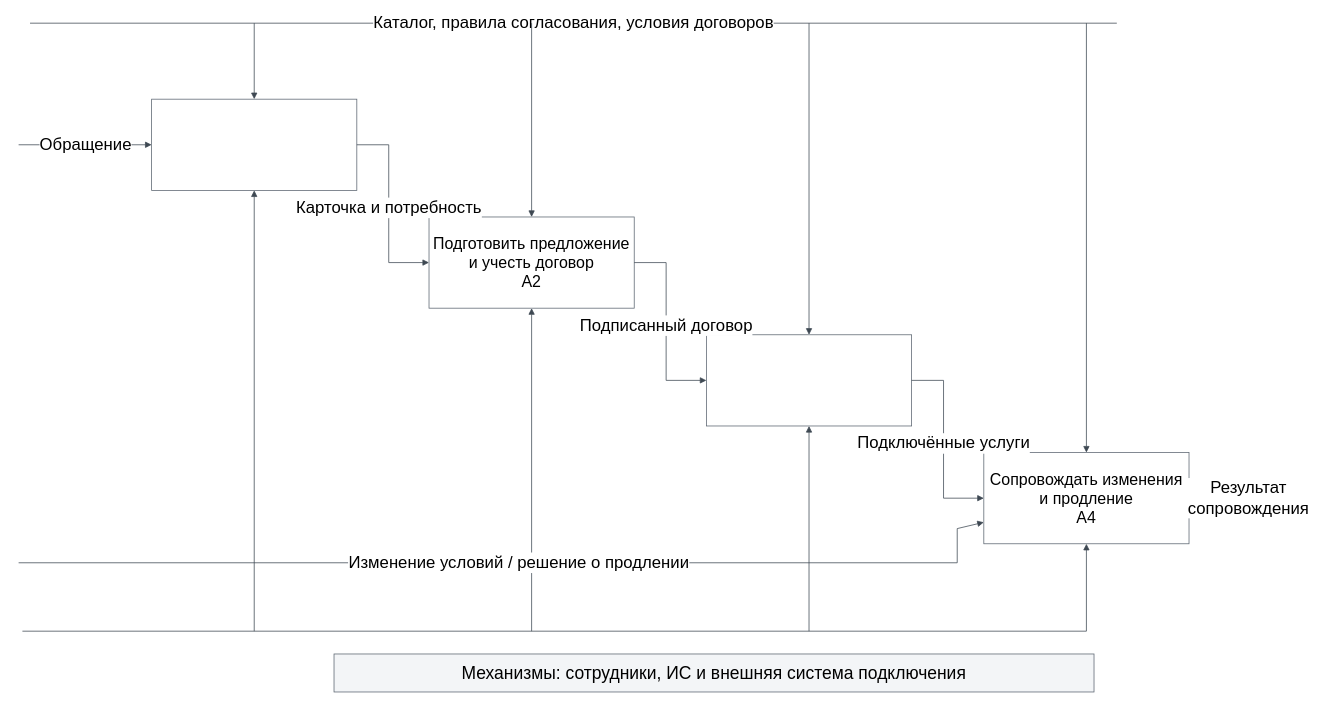
Image size: 1326x705. Some labels were removed from this diagram. Here are the shapes that lost their labels. From the top down, the box of each, then its label:
(151, 98, 357, 190): Принять обращение и сведения клиента A1
(706, 334, 912, 426): Организовать подключение услуг A3
